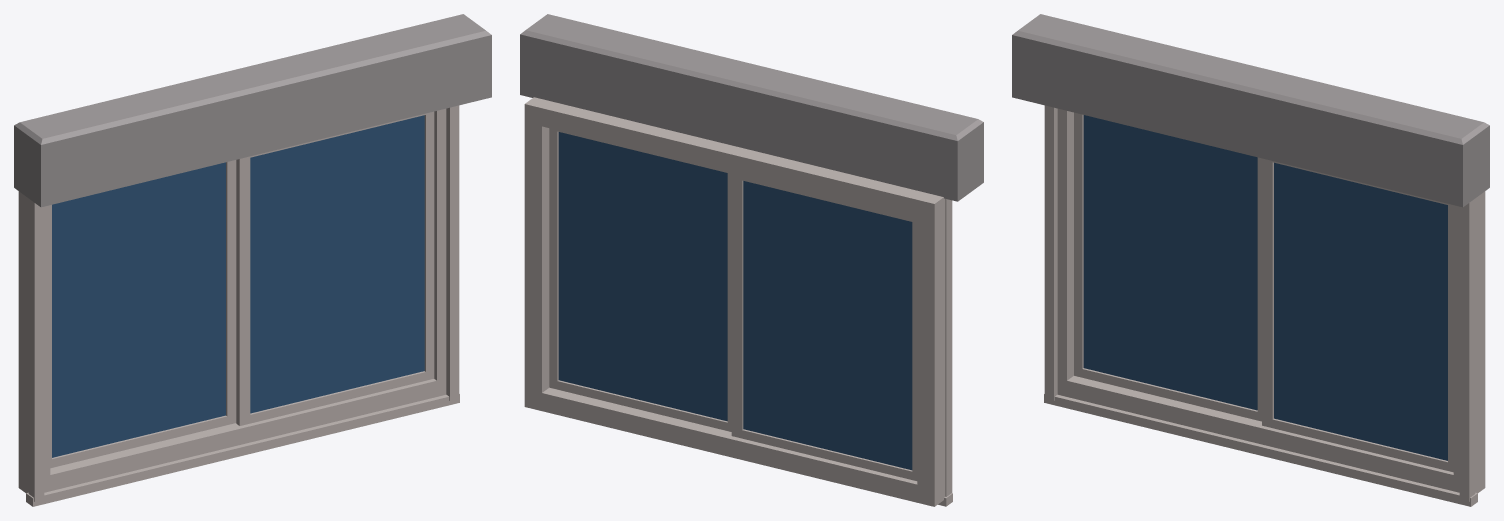
File: SM_Opening_Window16511_Shutter_01.gltf
3 views of the same model, side by side, from view 1: azimuth 30°, elevation 25°; view 2: azimuth 150°, elevation 25°; view 3: azimuth 330°, elevation 25° (orthographic). The views are drawn at different scales.
Visible parts, largest first — view 1: SM_Opening_Window16511_Shutter_01; view 2: SM_Opening_Window16511_Shutter_01; view 3: SM_Opening_Window16511_Shutter_01.
Boxes of the visible parts, bbox=[...] form: SM_Opening_Window16511_Shutter_01: bbox=[14, 14, 491, 506]; SM_Opening_Window16511_Shutter_01: bbox=[520, 14, 983, 506]; SM_Opening_Window16511_Shutter_01: bbox=[1012, 14, 1489, 506].
Bounding box in the file's own units: 1.89 × 1.54 × 0.265.
1 material, 1 textured.
